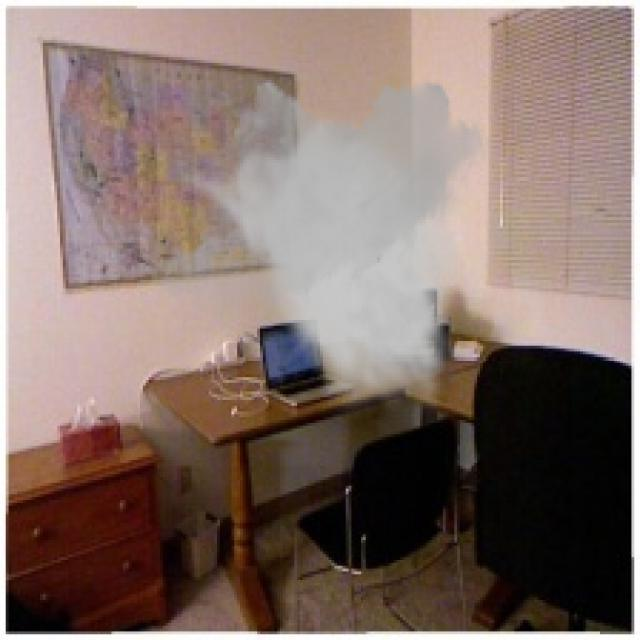smoke: (149, 71, 494, 423)
